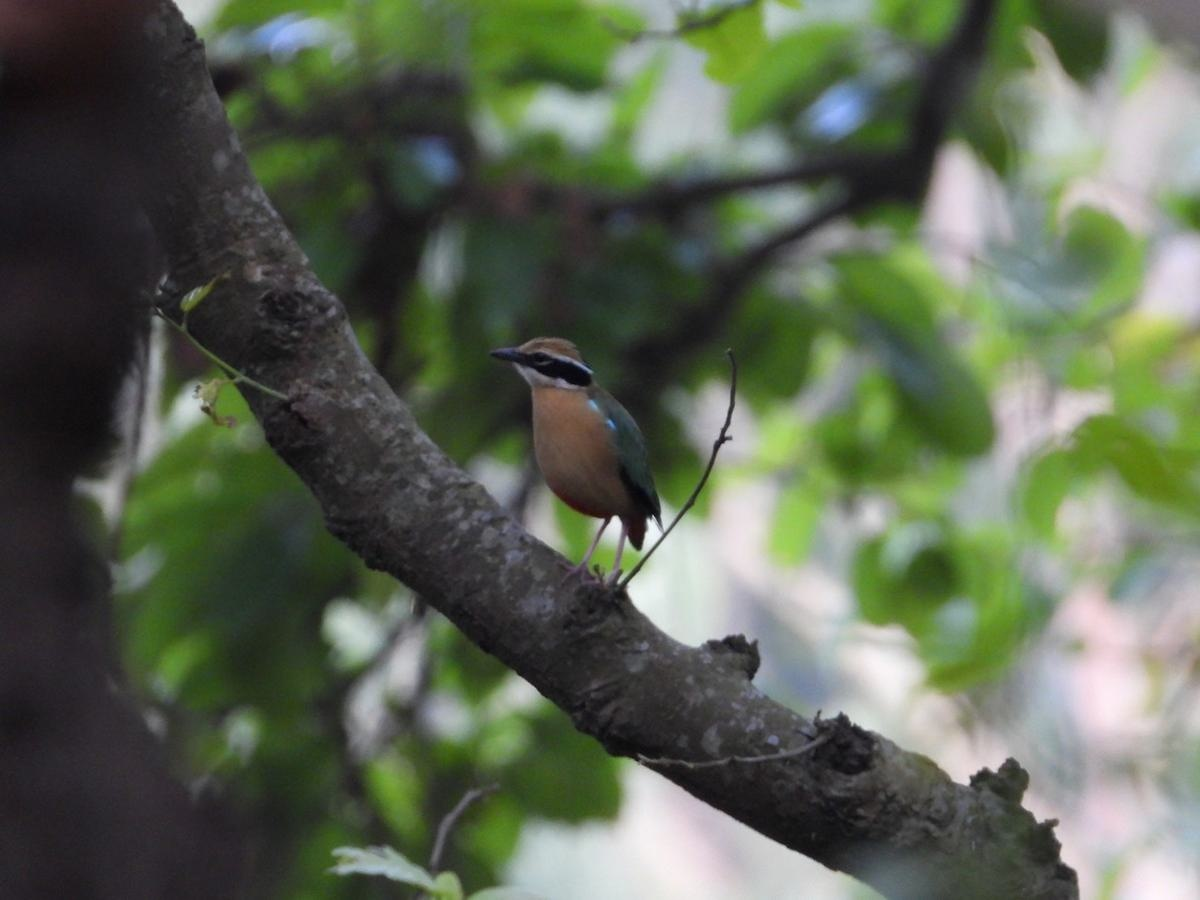pitta: (507, 275, 696, 601)
